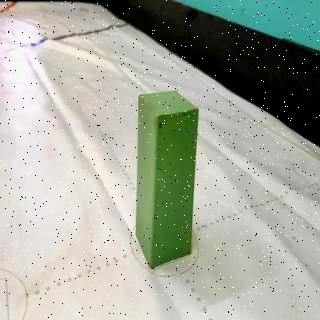greenbox: (136, 88, 199, 272)
